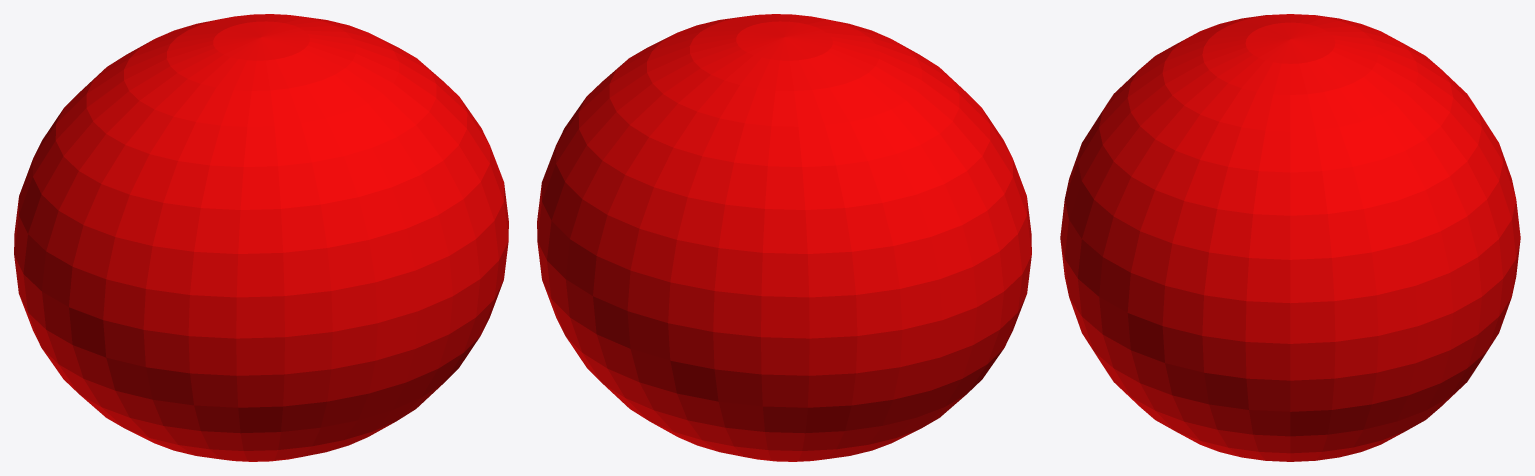
File: attack.obj
3 views of the same model, side by side, from view 1: azimuth 30°, elevation 25°; view 2: azimuth 150°, elevation 25°; view 3: azimuth 270°, elevation 25° (orthographic).
Visible parts, largest first — view 1: 球.001; view 2: 球.001; view 3: 球.001.
Part boxes in pixels (x1,y1,x2,y2): 球.001: (14,14,508,461); 球.001: (537,14,1031,461); 球.001: (1060,14,1520,461).
Bounding box in the file's own units: 0.5711 × 0.499 × 0.5244.
Materials: 1 (1 with a texture image).
